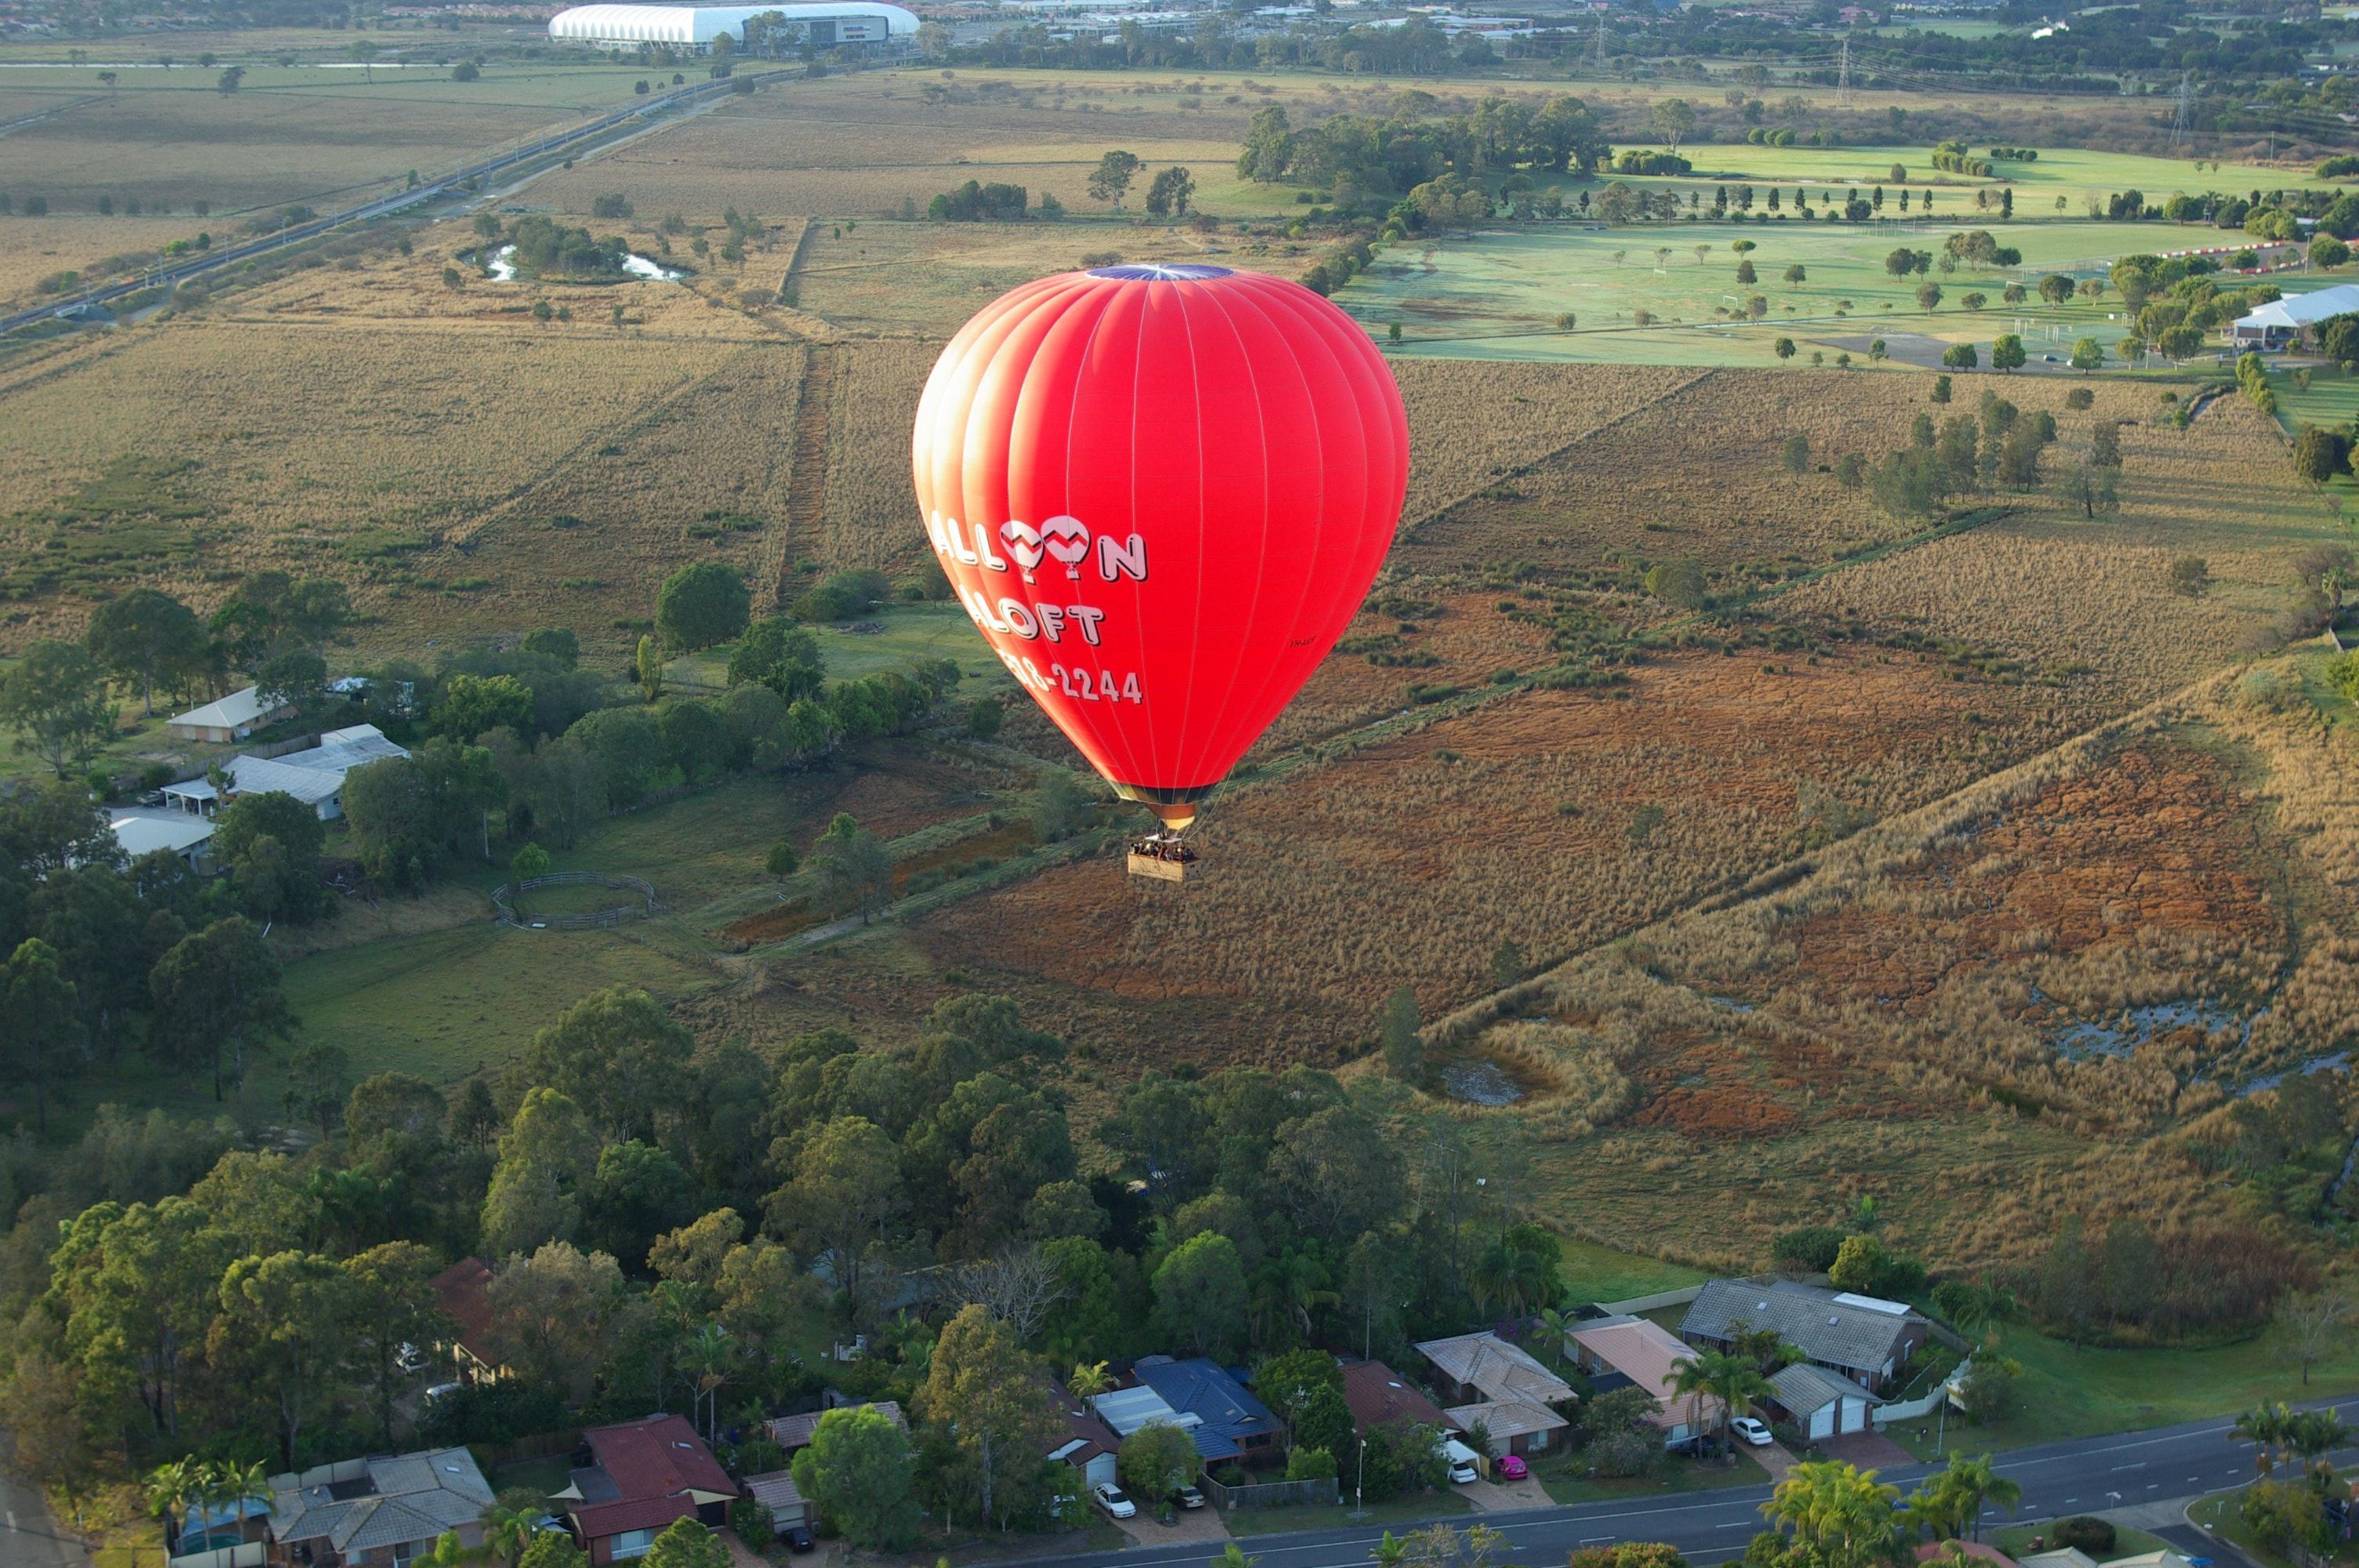hot air ballon: (912, 254, 1412, 884)
